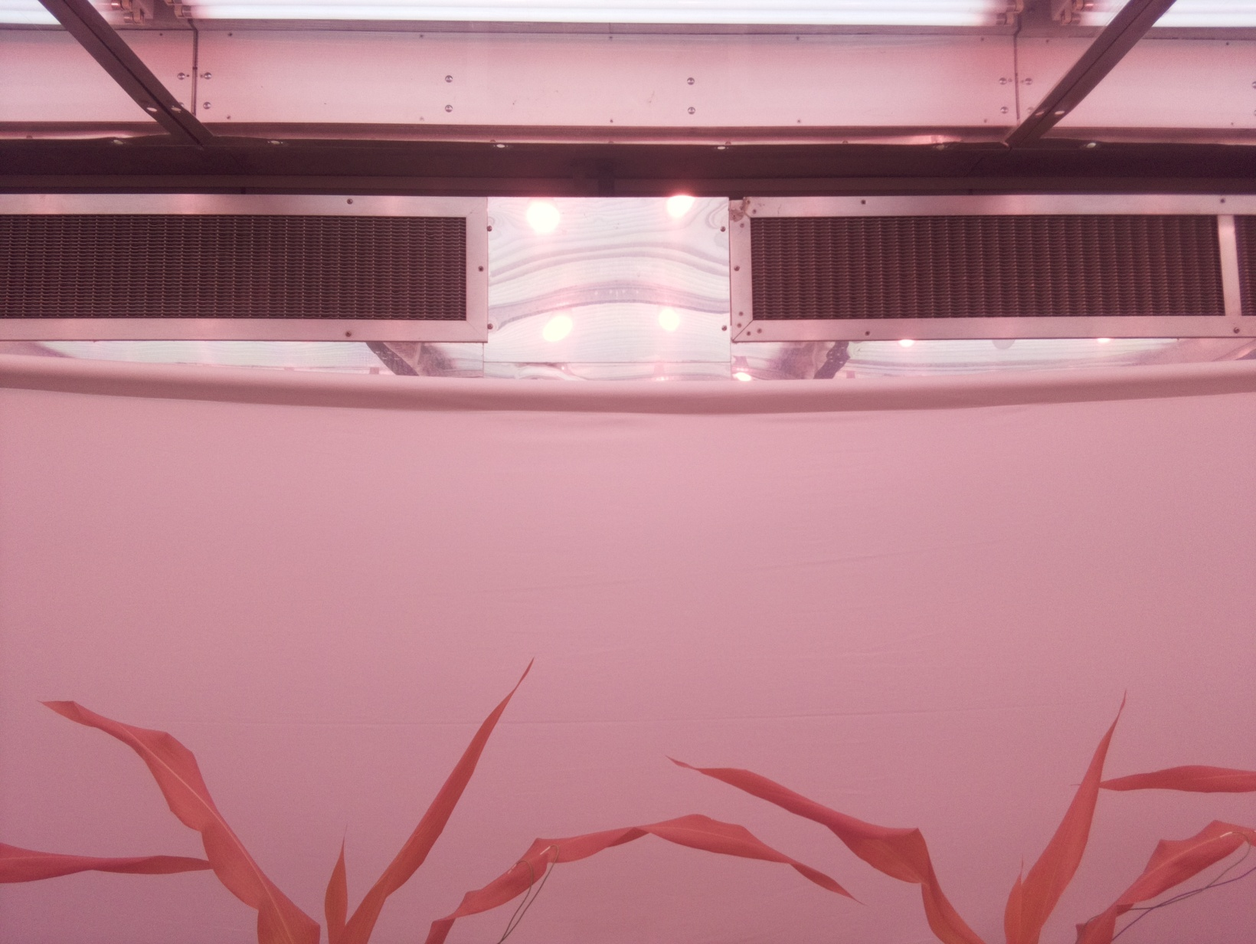maize: (0, 656, 863, 944), (665, 689, 1256, 944)
